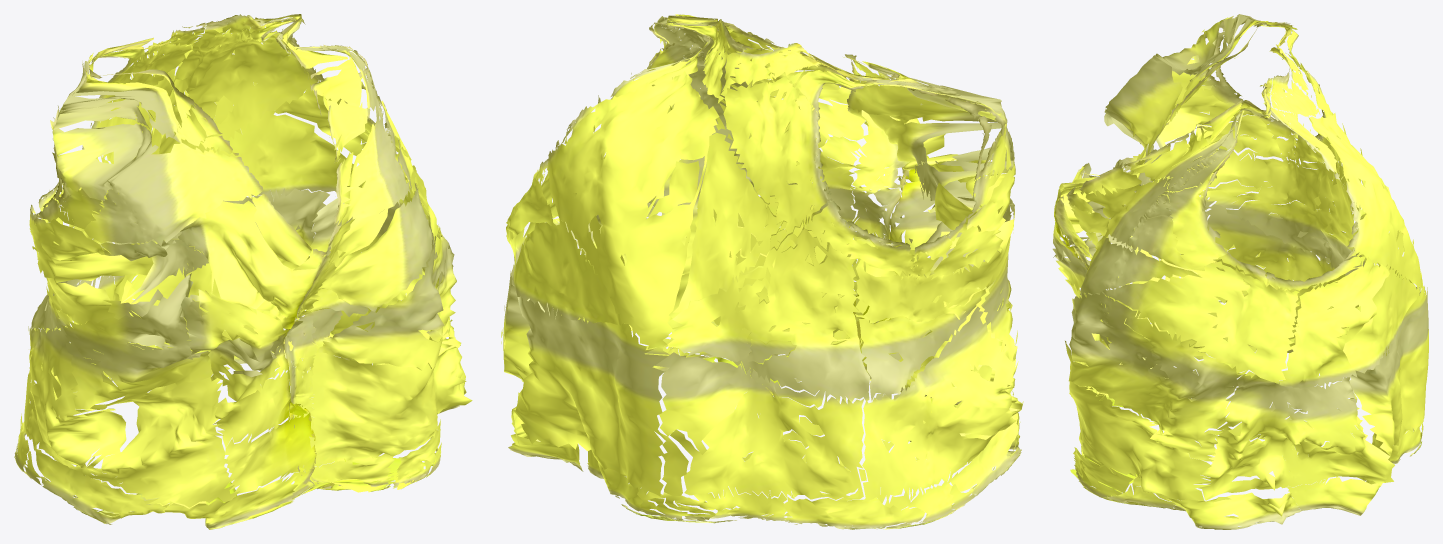
Rendered from gilet_statue.glb.
3 views of the same model, side by side, from view 1: azimuth 30°, elevation 25°; view 2: azimuth 150°, elevation 25°; view 3: azimuth 270°, elevation 25° (orthographic). The views are drawn at different scales.
Parts seen in each view (by area): view 1: Gilet; view 2: Gilet; view 3: Gilet.
Boxes of the visible parts, x1,y1,x2,y2 form: Gilet: (14,14,472,529); Gilet: (501,14,1023,529); Gilet: (1052,14,1428,529).
Bounding box in the file's own units: 4.4 × 4.1 × 3.72.
1 material, 1 textured.
